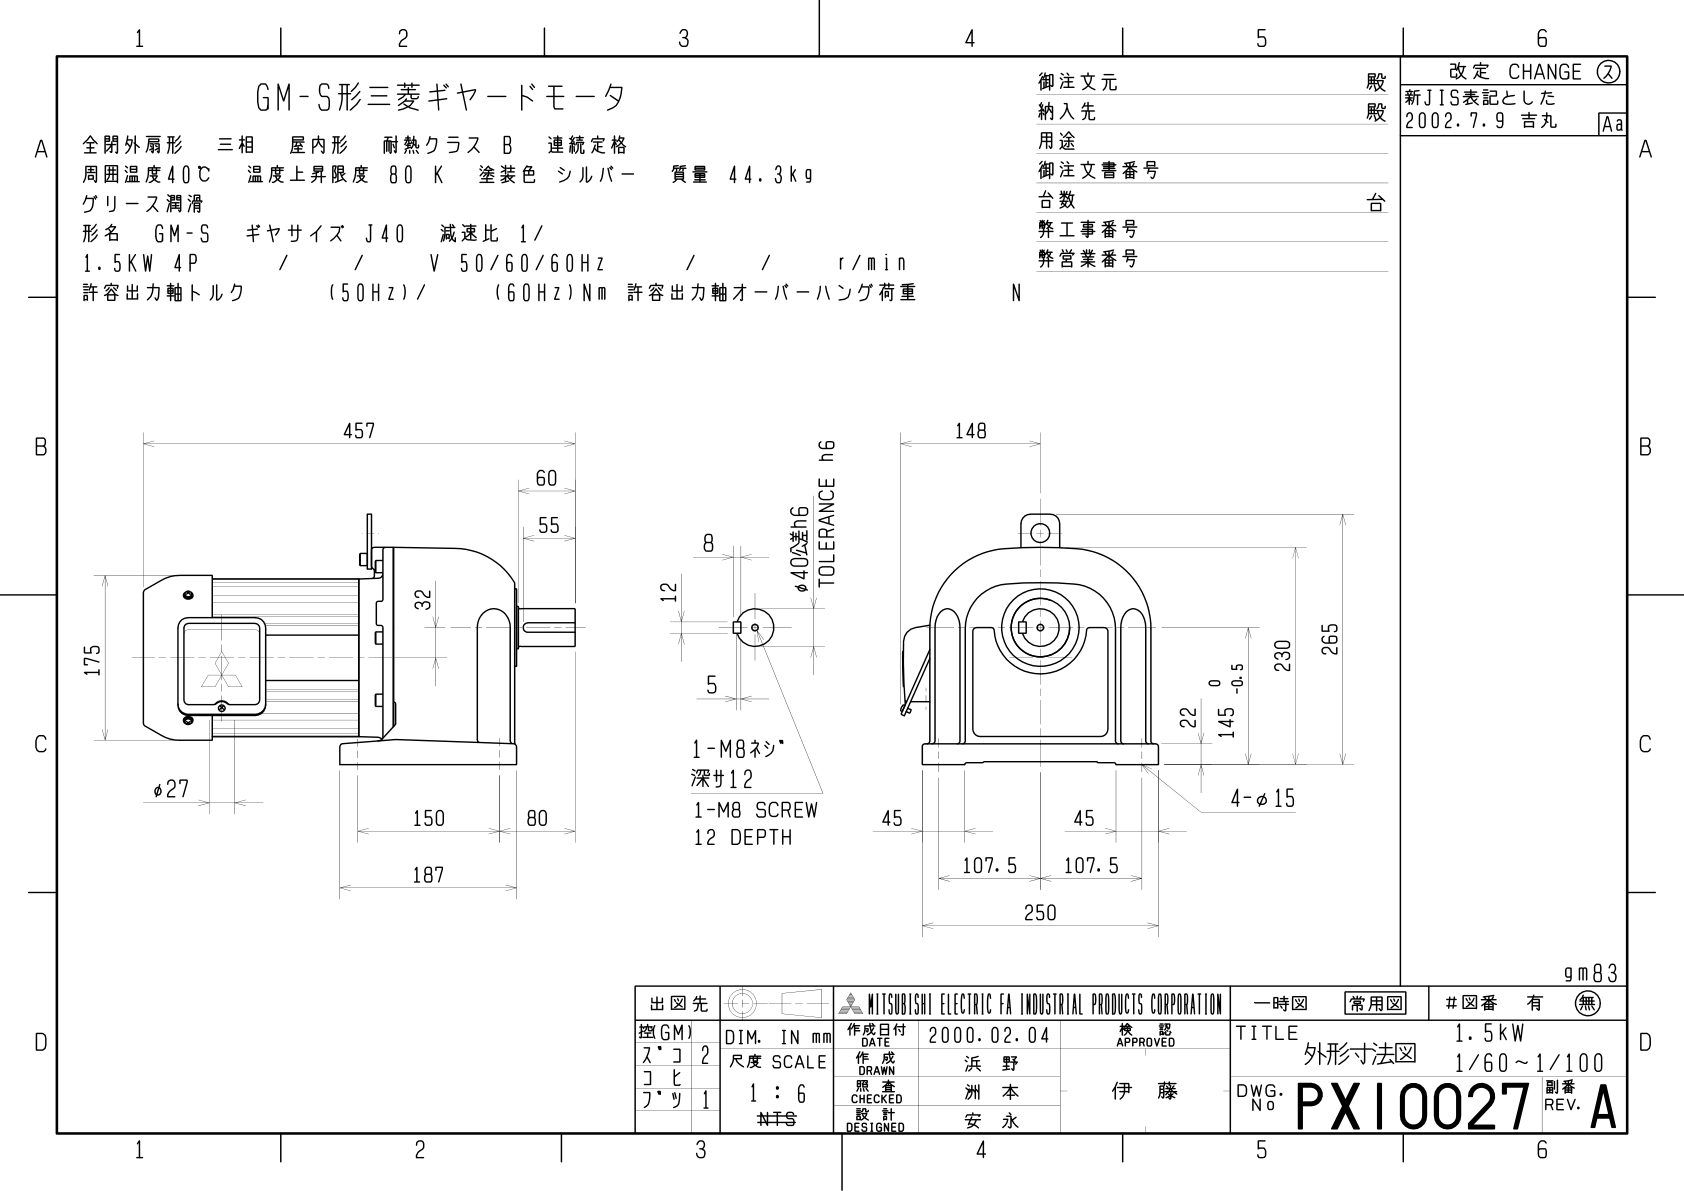GM_S_屋内＿三相_脚: (71, 351, 1377, 945)
